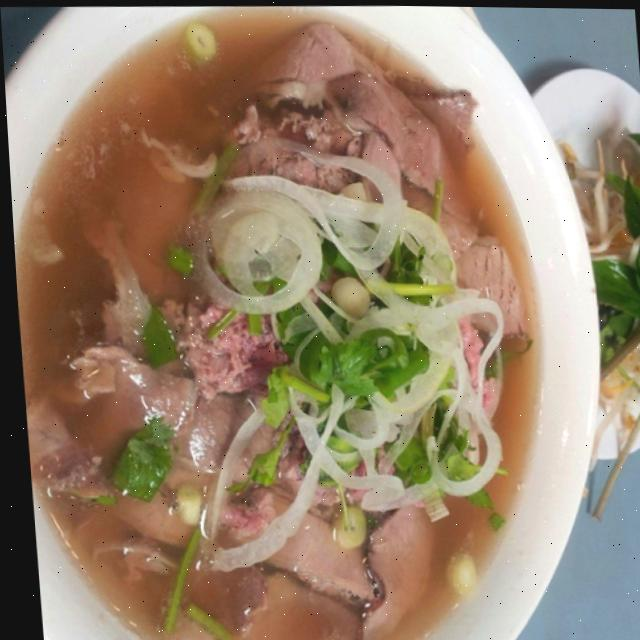面条主食: (2, 14, 578, 640)
